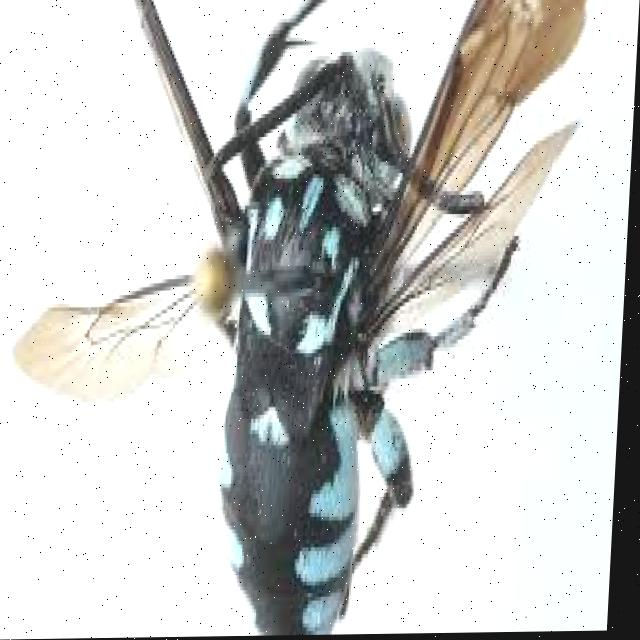Thyreus: (81, 0, 566, 639)
